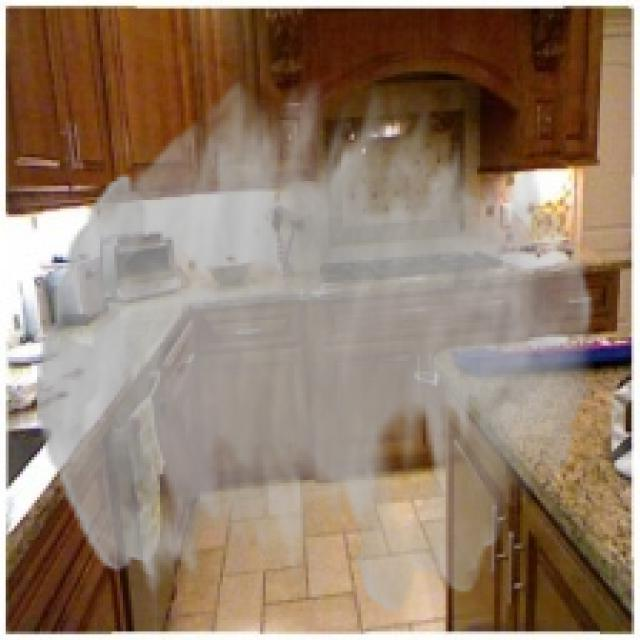smoke: (37, 77, 594, 612)
